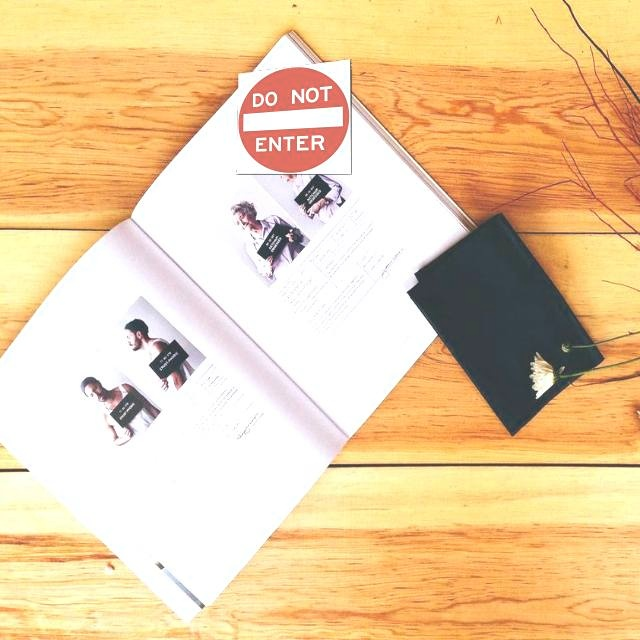DO_NOT_ENTER: (236, 58, 352, 175)
